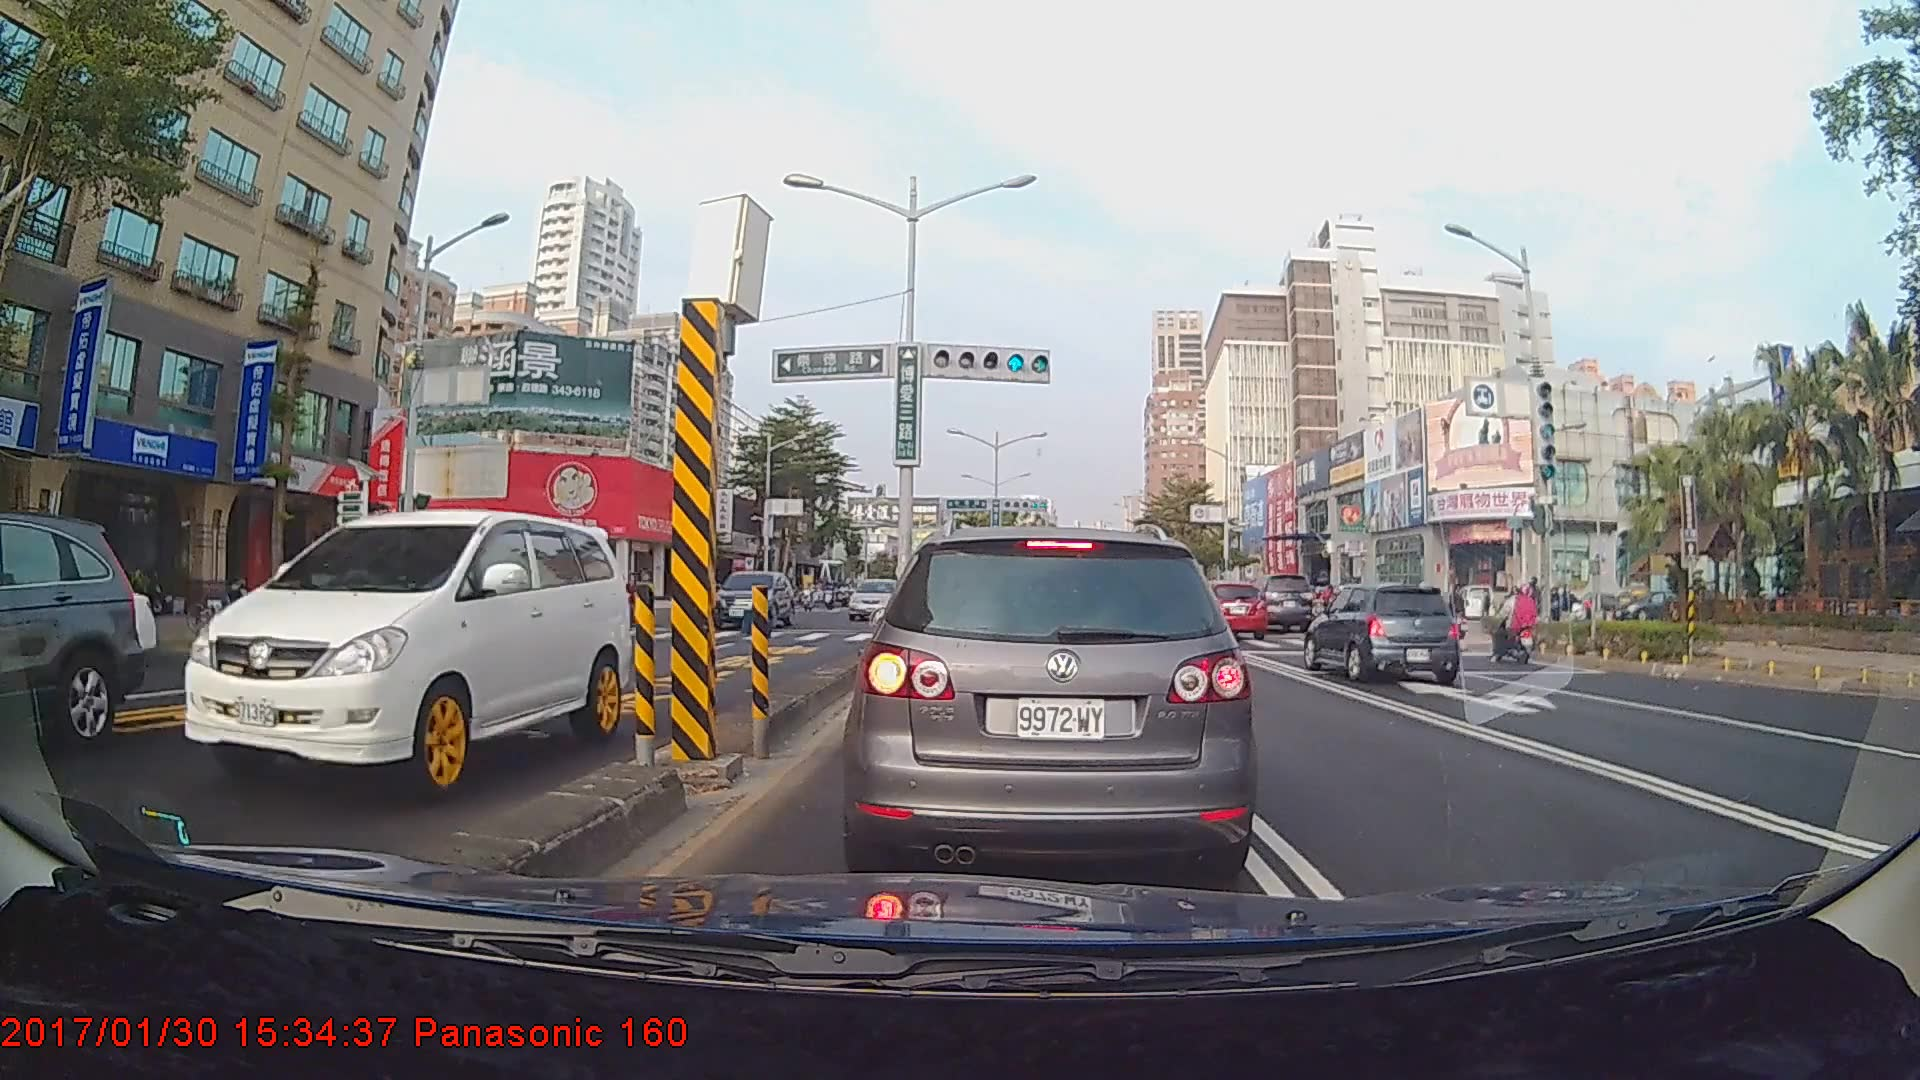rider: (1485, 582, 1548, 668)
vehicle: (854, 524, 1250, 882), (180, 507, 632, 803), (0, 508, 147, 751), (1300, 581, 1461, 684), (706, 569, 794, 628), (1232, 570, 1314, 633), (1191, 580, 1269, 640), (847, 577, 904, 619)
